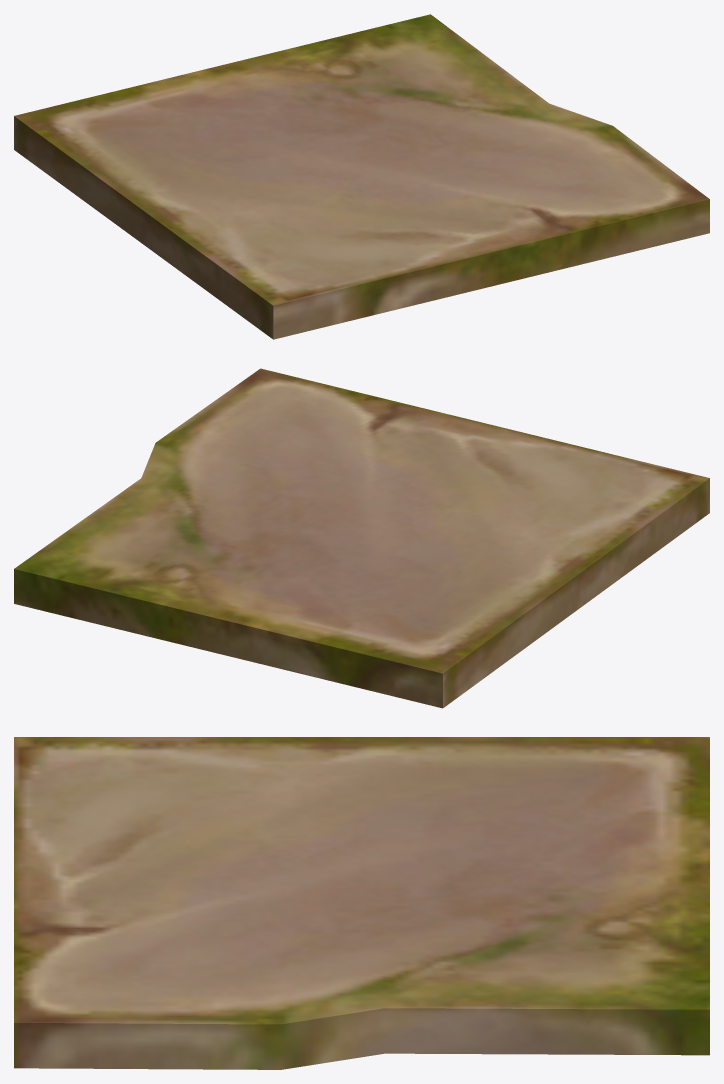
The model's file is Stage_01_01_DiMianShiKuai08.FBX.
3 views of the same model, one above another, from view 1: azimuth 30°, elevation 25°; view 2: azimuth 150°, elevation 25°; view 3: azimuth 270°, elevation 25° (orthographic). The views are drawn at different scales.
Visible parts, largest first — view 1: Stage_01_01_DiMianShiKuai08; view 2: Stage_01_01_DiMianShiKuai08; view 3: Stage_01_01_DiMianShiKuai08.
Boxes of the visible parts, x1,y1,x2,y2 form: Stage_01_01_DiMianShiKuai08: [14, 14, 709, 339]; Stage_01_01_DiMianShiKuai08: [14, 368, 709, 708]; Stage_01_01_DiMianShiKuai08: [14, 737, 709, 1069].
Size of the model in its own units: 156 by 11.53 by 160.
